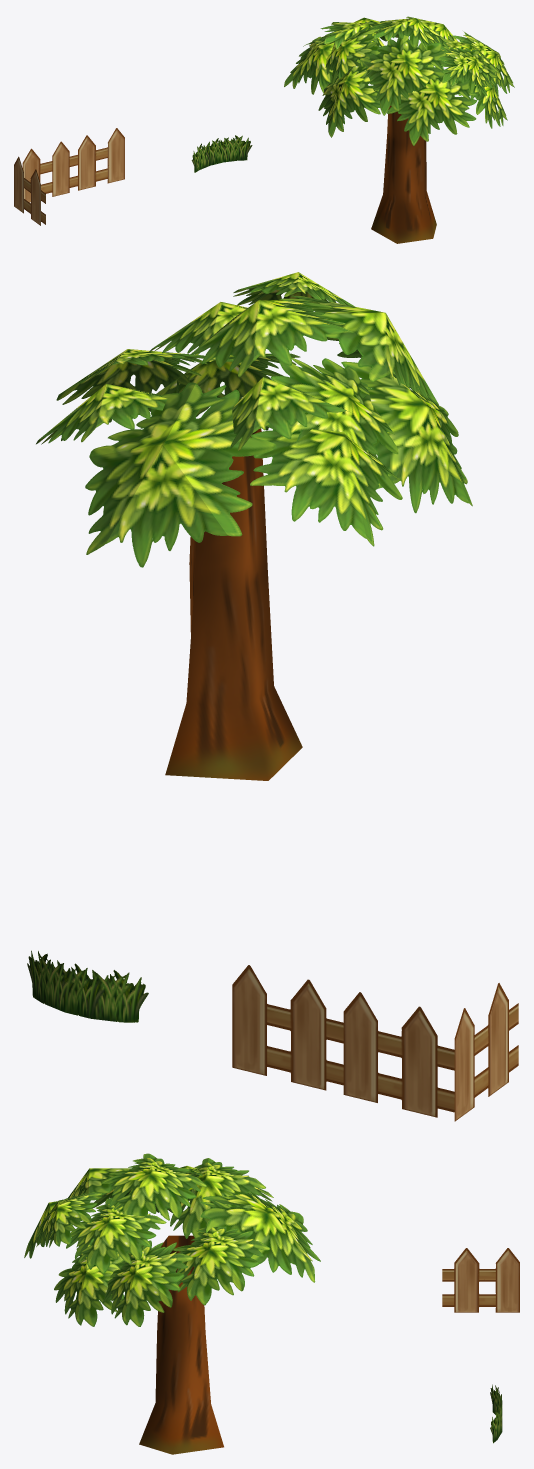
Rendered from TREE.FBX.
3 renders of one model, top to bottom at view 1: azimuth 30°, elevation 25°; view 2: azimuth 150°, elevation 25°; view 3: azimuth 270°, elevation 25°, orthographic. The views are drawn at different scales.
Visible parts, largest first — view 1: NGon004, Object001, Plane002, Plane004, Plane003, Plane005; view 2: NGon004, Object001, Plane004, Plane002, Plane003, Plane005; view 3: NGon004, Object001, Plane005, Plane003.
Boxes of the visible parts, x1,y1,x2,y2 form: NGon004: (284,16,514,145); Object001: (371,105,436,243); Plane002: (69,128,124,190); Plane004: (22,141,69,202); Plane003: (191,135,252,172); Plane005: (14,156,45,225); NGon004: (36,272,472,567); Object001: (165,428,302,780); Plane004: (343,992,454,1117); Plane002: (232,965,343,1090); Plane003: (27,950,148,1022); Plane005: (454,983,518,1121); NGon004: (24,1153,320,1326); Object001: (139,1235,223,1454); Plane005: (442,1248,519,1312); Plane003: (490,1384,502,1443).
Size of the model in its own units: 27.25 by 17.88 by 28.36.
4 materials, 4 textured.
